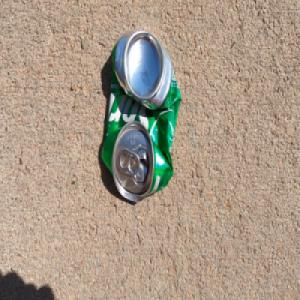SodaCan: (100, 27, 183, 203)
